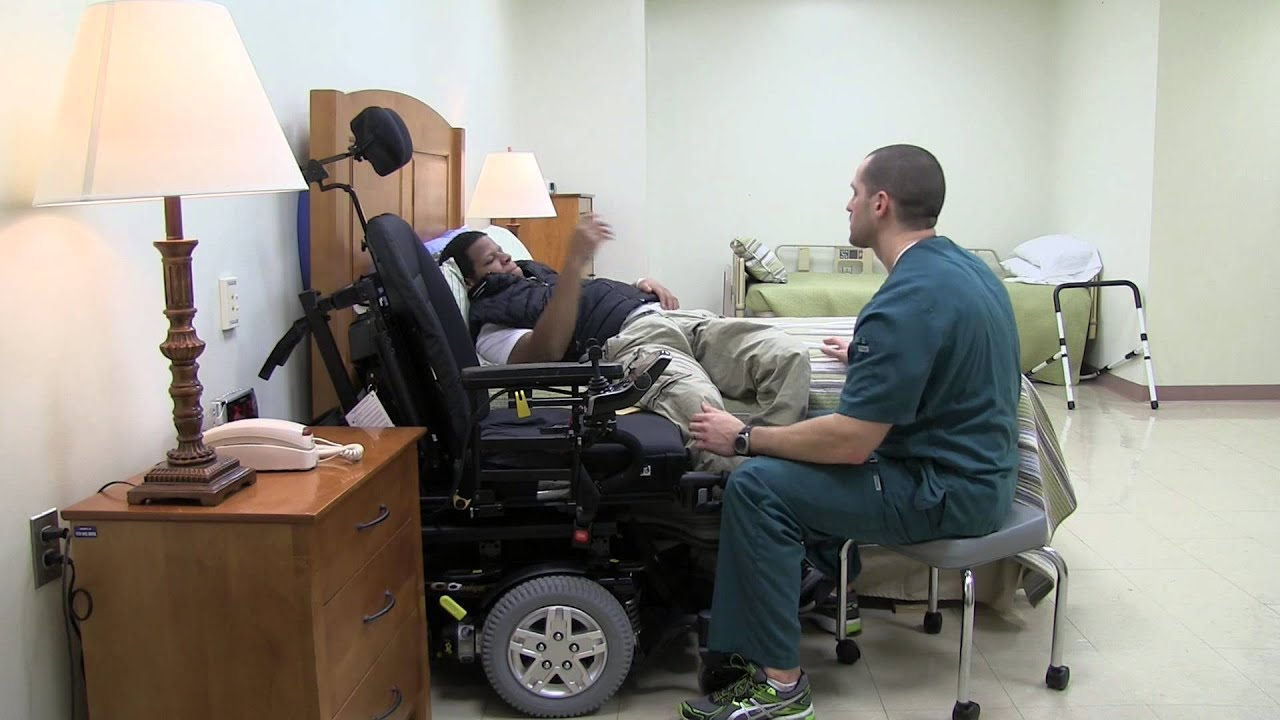bedside_table: (66, 421, 441, 713)
chair: (843, 493, 1080, 715)
handle: (380, 686, 413, 713), (365, 598, 398, 625), (358, 506, 391, 533)
hospital_bed: (726, 243, 1110, 387)
patient: (446, 230, 849, 387)
staff: (685, 142, 1023, 714)
telephone: (191, 413, 370, 465)
wheel_chair: (286, 107, 681, 719)
